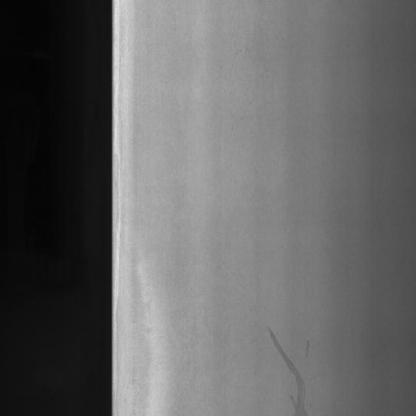water_spot: (258, 320, 320, 416)
